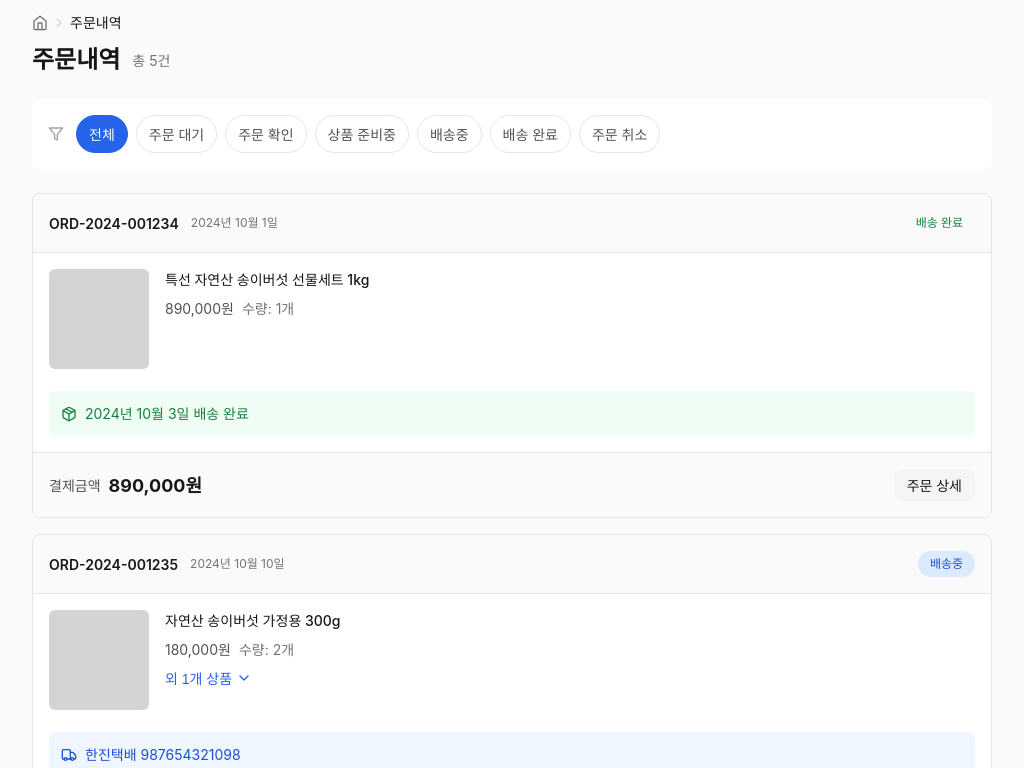
Scenario: OrdersPage › status filters › should filter orders by shipping status
The image size is (1024, 768).
Click the button "배송중": (449, 134) [417,115,482,153]
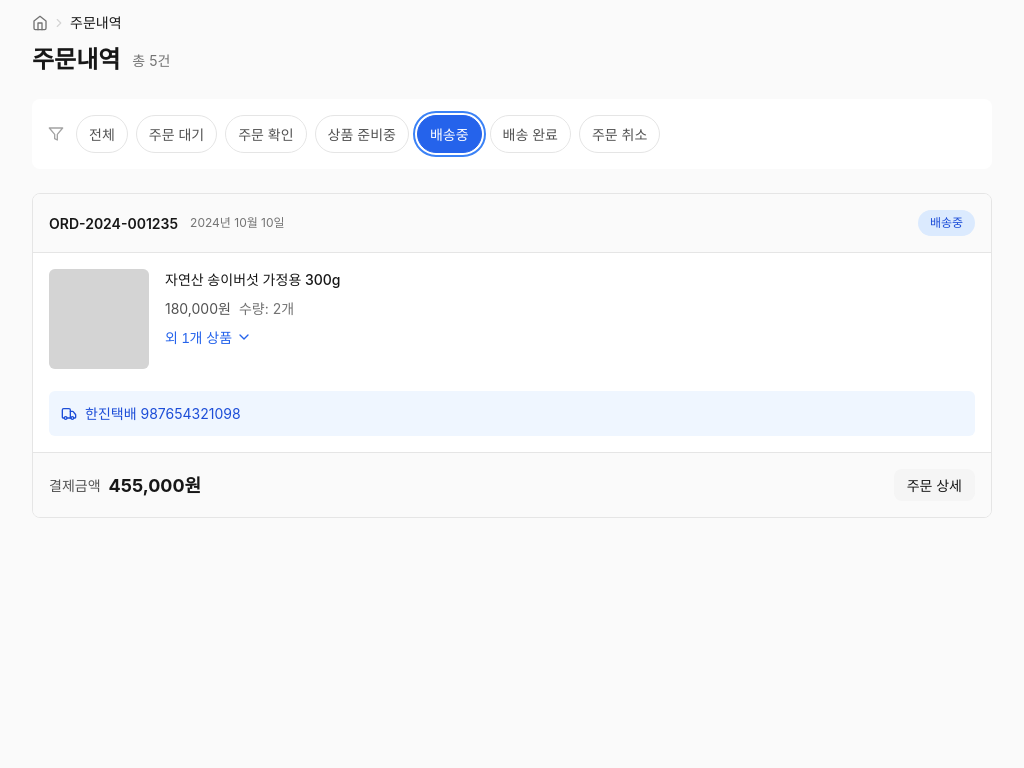
Expected: the text "ORD-2024-001235" is shown, [49,212,178,234]
Expected: the text "ORD-2024-001234" is gone
